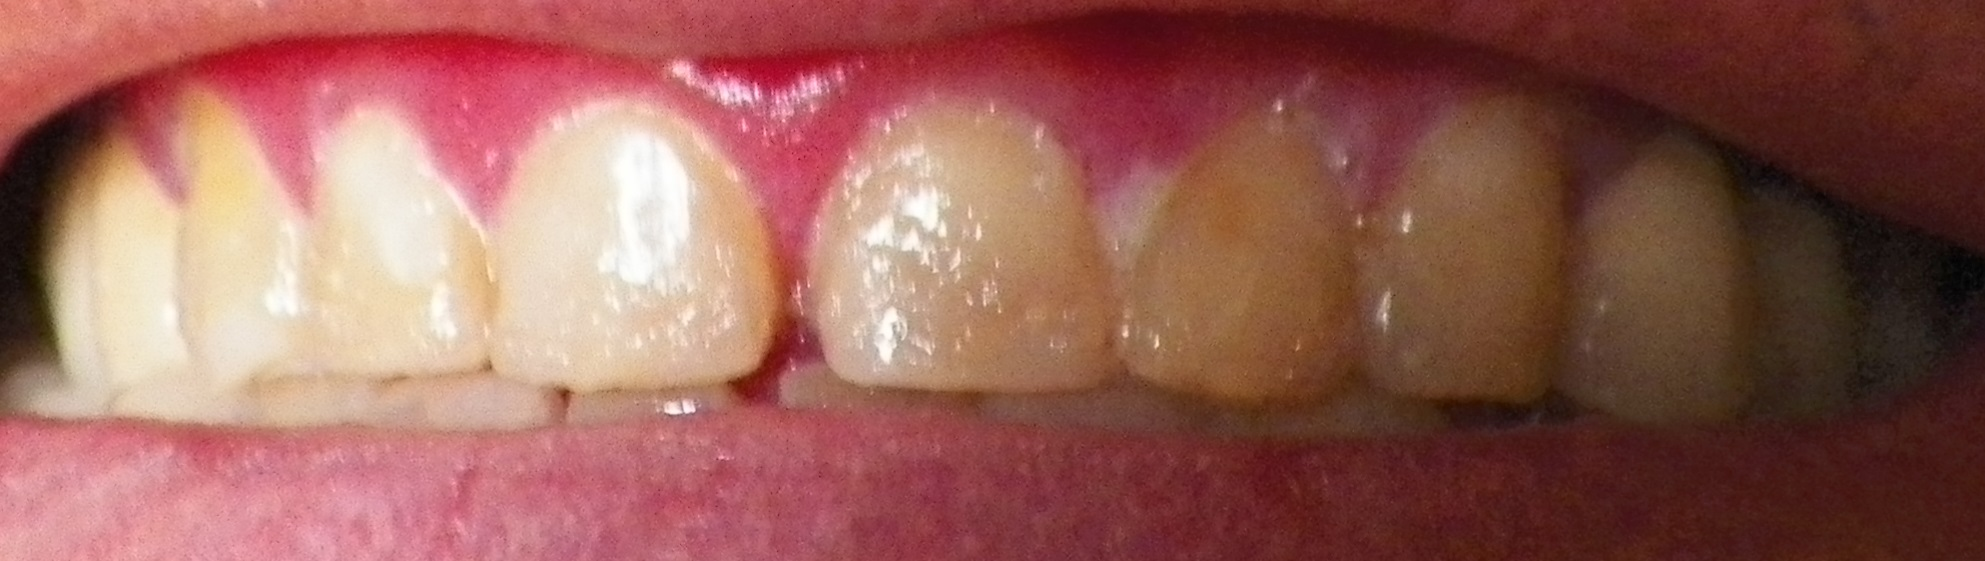boca: (33, 77, 1886, 436)
